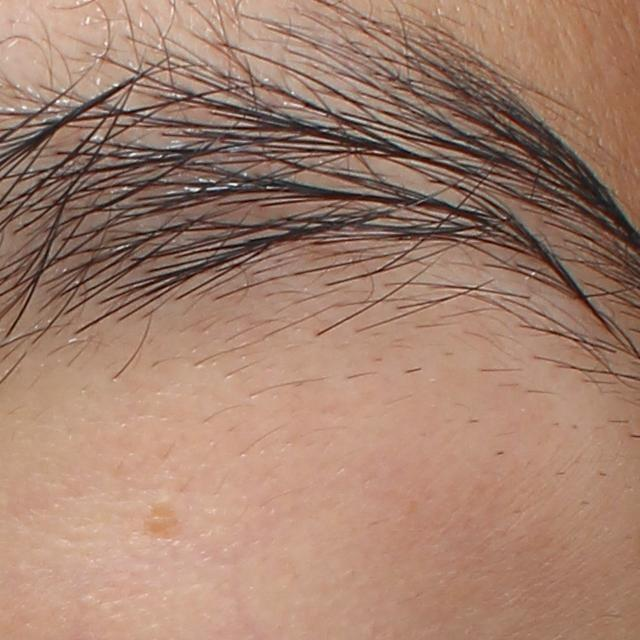melasma: (140, 498, 192, 546)
